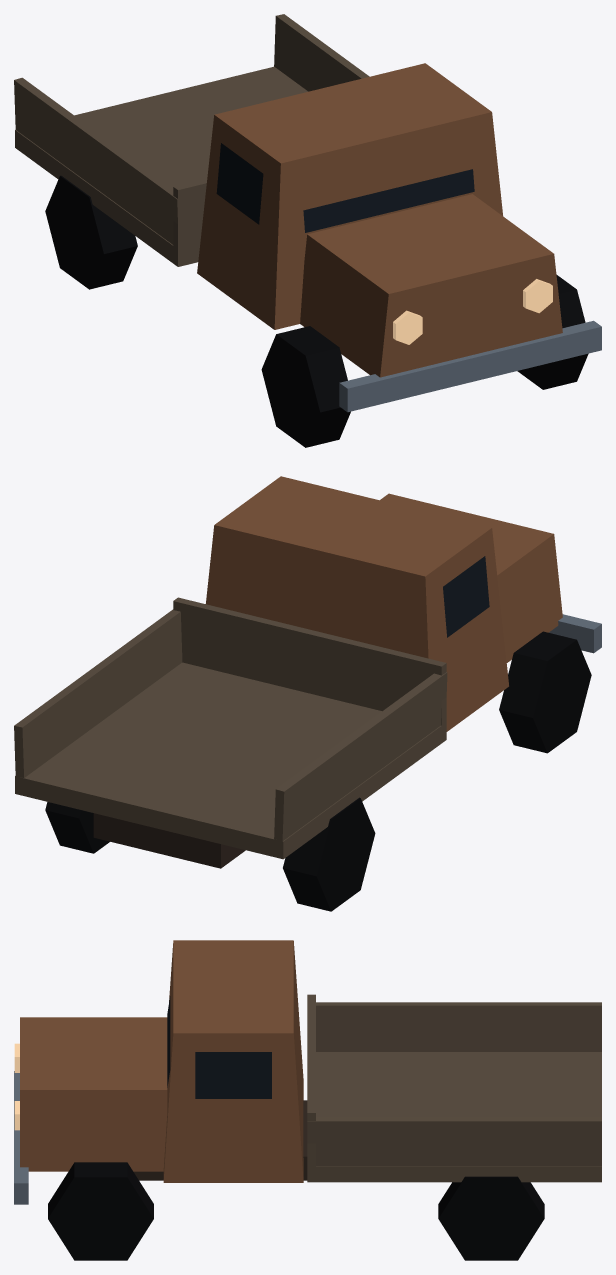
Rendered from caminhao.glb.
3 renders of one model, top to bottom at view 1: azimuth 30°, elevation 25°; view 2: azimuth 150°, elevation 25°; view 3: azimuth 270°, elevation 25°, orthographic. The views are drawn at different scales.
Visible parts, largest first — view 1: corpo, farois; view 2: corpo; view 3: corpo.
Part boxes in pixels (bbox=[...]): corpo: bbox=[14, 14, 601, 447]; farois: bbox=[393, 279, 552, 344]; corpo: bbox=[14, 476, 601, 911]; corpo: bbox=[14, 940, 601, 1260].
Size of the model in its own units: 1.92 by 1.6 by 3.99.
